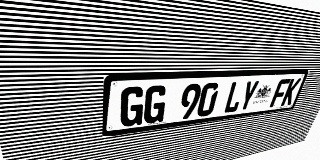0: (196, 82, 220, 117)
9: (178, 83, 203, 120)
F: (269, 79, 291, 107)
G: (119, 86, 146, 128), (142, 85, 168, 124)
K: (280, 78, 302, 106)
L: (222, 81, 246, 114)
Y: (237, 80, 260, 112)
